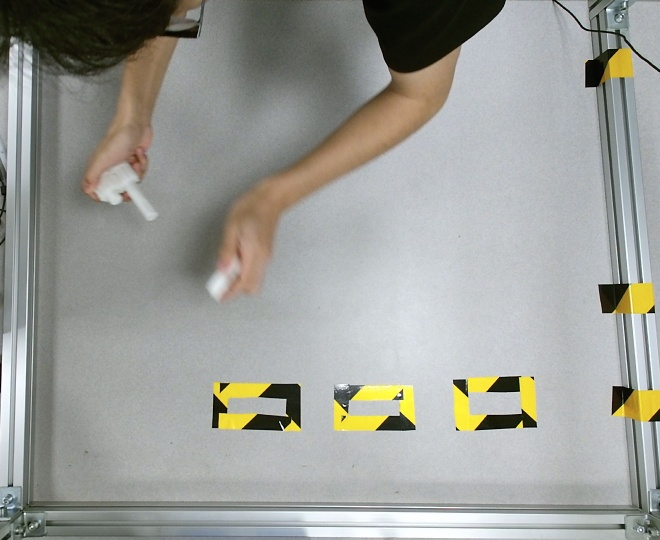stage_3: (90, 162, 158, 223)
